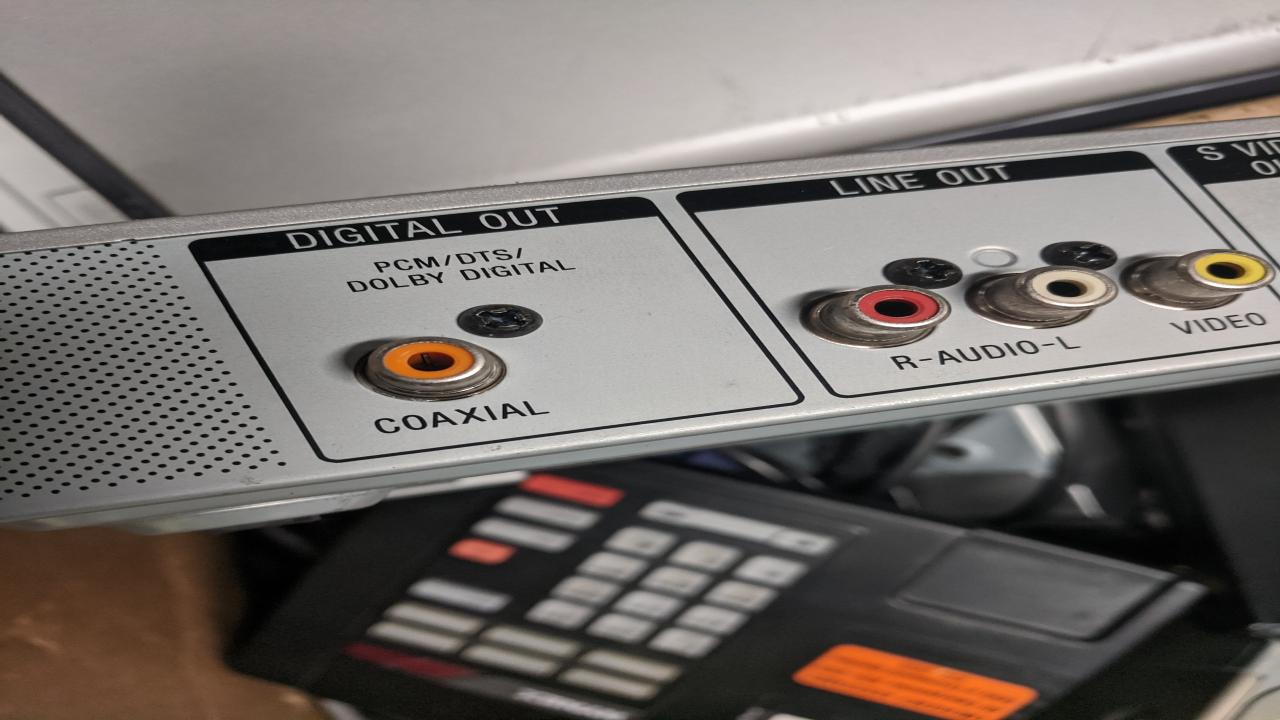CRS: (454, 302, 548, 338), (886, 257, 968, 287), (1048, 240, 1116, 269)
